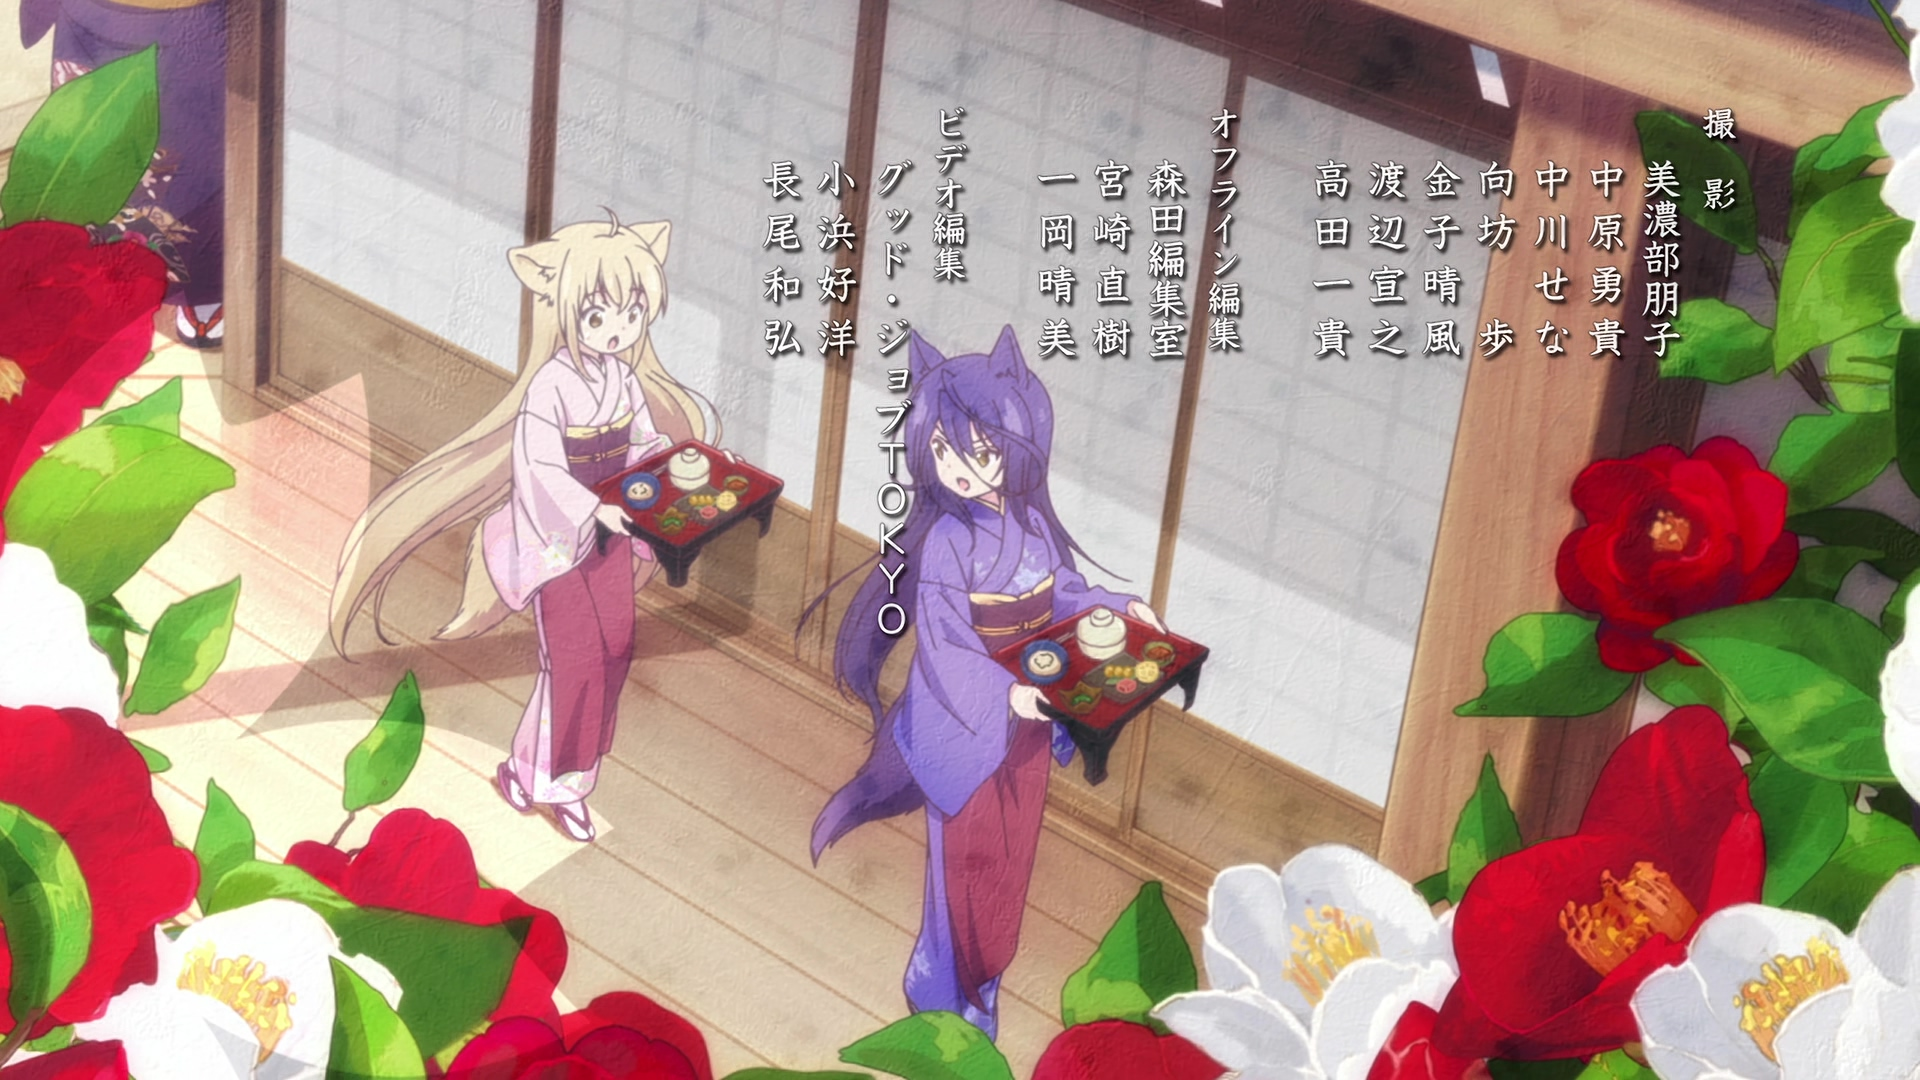其他: (20, 1, 222, 349)
柚: (328, 206, 789, 845)
皋: (795, 324, 1208, 1056)
